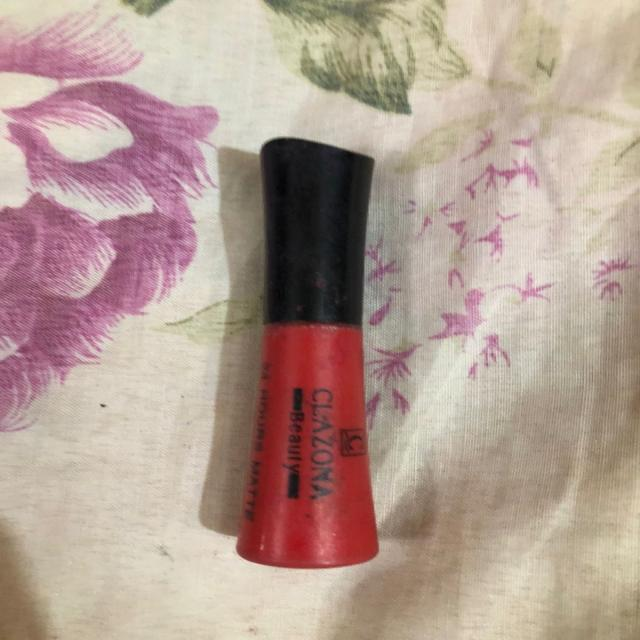lip gloss: (228, 120, 417, 584)
